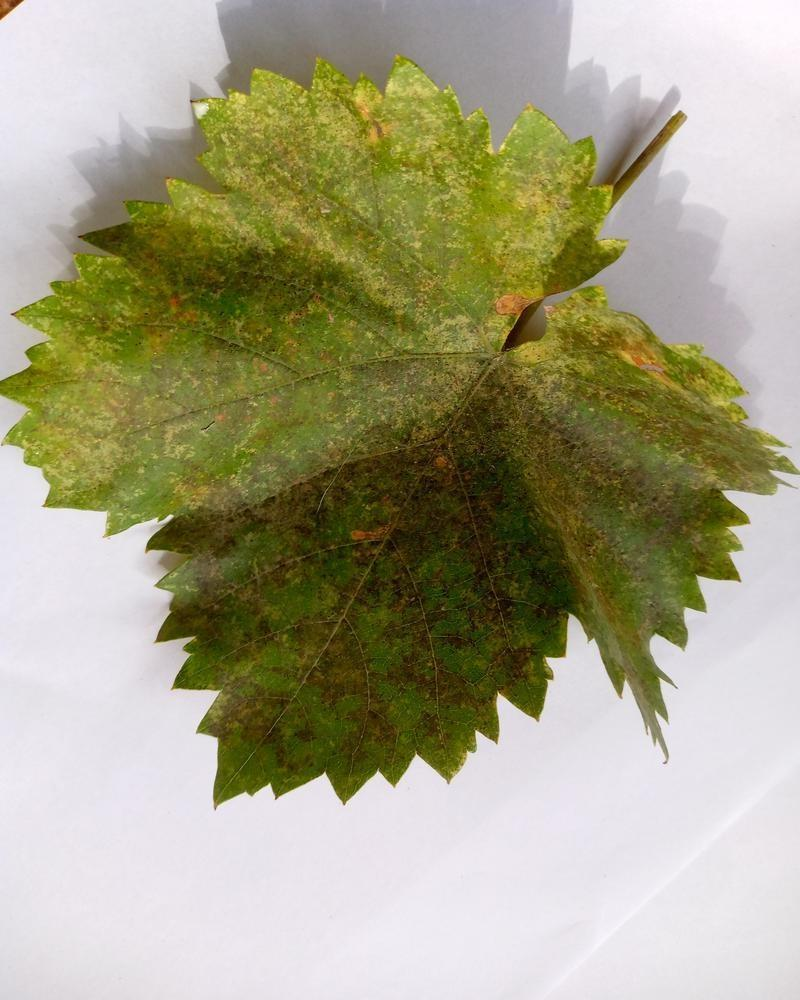Powdery-Mildew: (149, 71, 500, 446), (15, 272, 276, 542), (179, 408, 385, 748), (509, 320, 775, 491), (404, 116, 603, 337), (516, 470, 684, 716), (397, 352, 481, 497), (343, 495, 406, 558)
